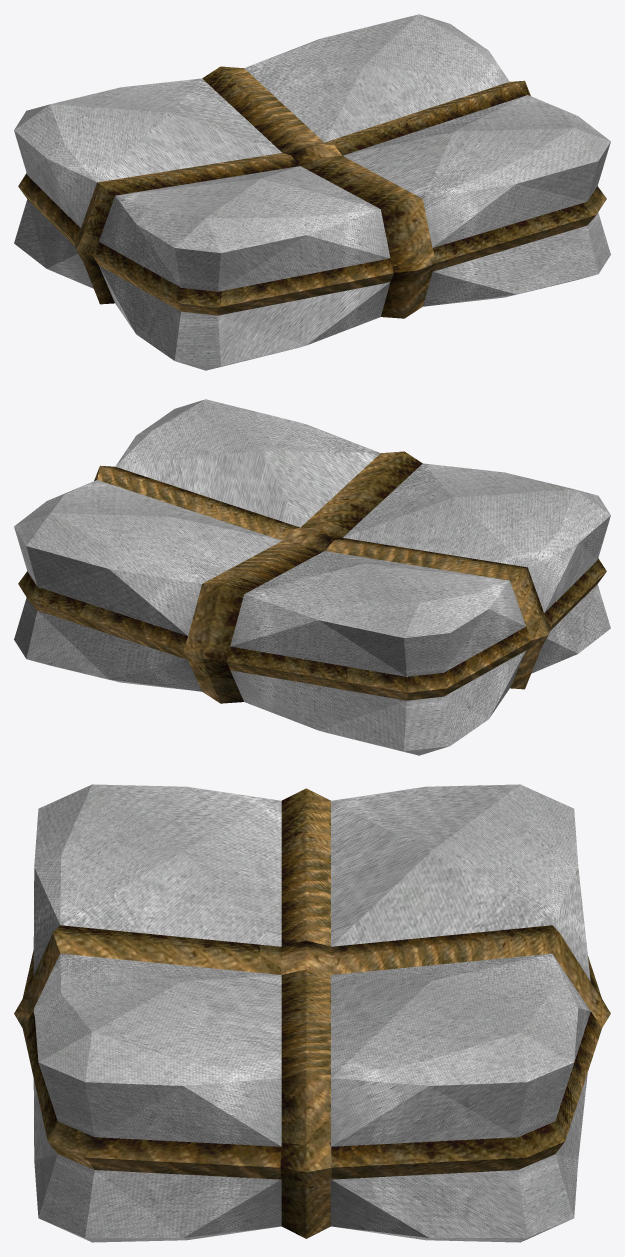
File: KM_ITMI_PACKET_07.glb
3 views of the same model, one above another, from view 1: azimuth 30°, elevation 25°; view 2: azimuth 150°, elevation 25°; view 3: azimuth 270°, elevation 25° (orthographic). The views are drawn at different scales.
Visible parts, largest first — view 1: KM_ITMI_PACKET_07; view 2: KM_ITMI_PACKET_07; view 3: KM_ITMI_PACKET_07.
Boxes of the visible parts, x1,y1,x2,y2 form: KM_ITMI_PACKET_07: [14, 14, 610, 370]; KM_ITMI_PACKET_07: [14, 399, 610, 755]; KM_ITMI_PACKET_07: [14, 784, 610, 1242].
Size of the model in its own units: 0.4578 by 0.1414 by 0.364.
2 materials, 2 textured.
